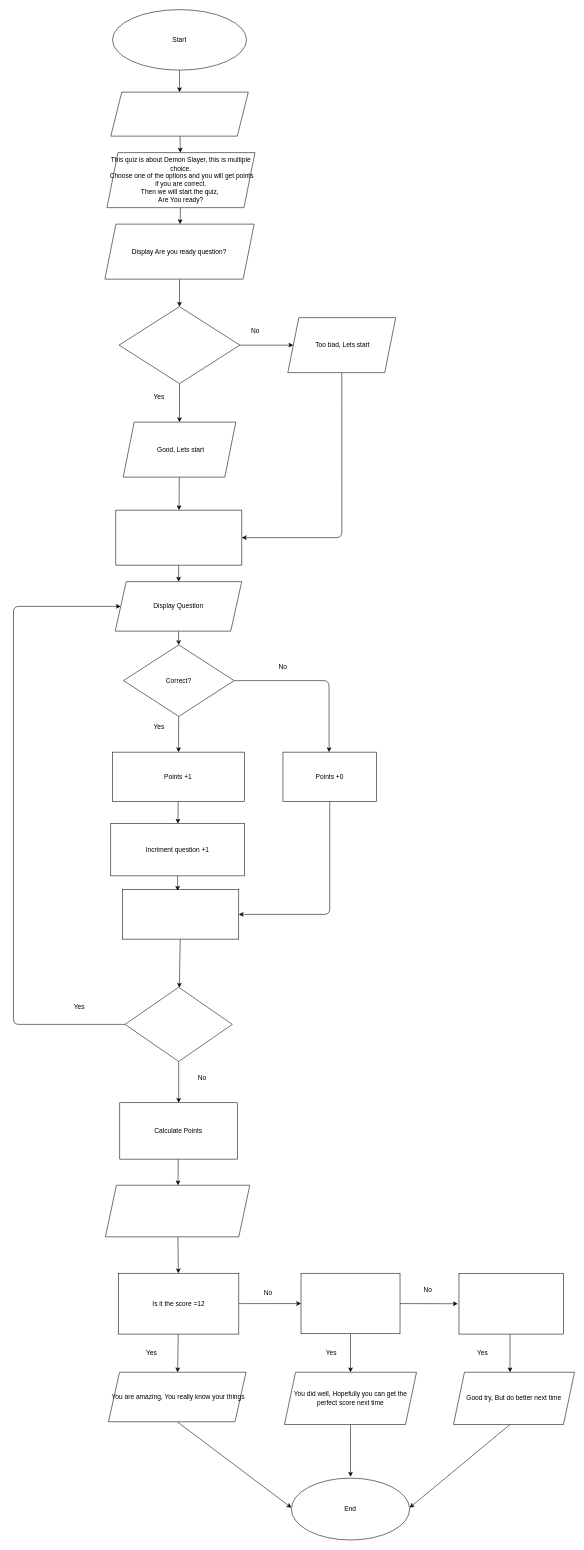
This 584x1550 diagram has some shape labels left out. Here are the shapes that lost their labels. From the top down, the box of each, then its label:
(110, 92, 248, 136): Input Name
(119, 306, 240, 384): Yes or No
(115, 510, 242, 565): Set score = 0
(122, 889, 239, 939): Check If there is more questions
(124, 987, 232, 1062): More questions?
(105, 1185, 250, 1237): Display Score
(300, 1273, 400, 1334): Is it <12
(458, 1273, 563, 1334): Is it <6
